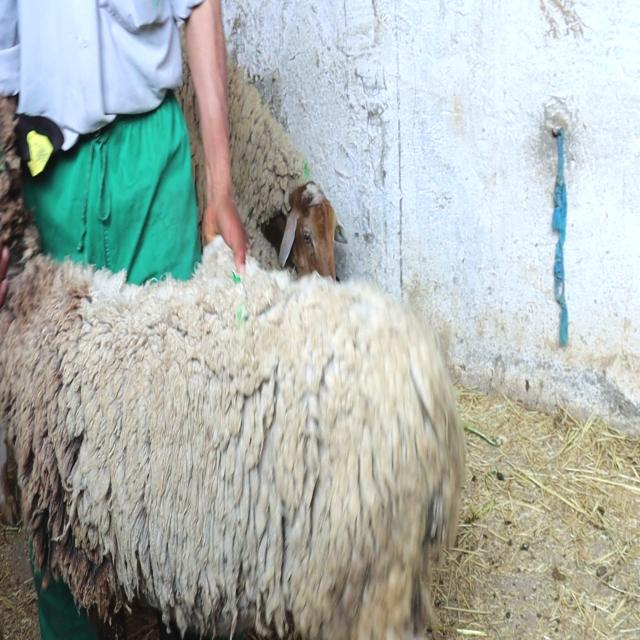Score_2: (0, 95, 465, 639)
